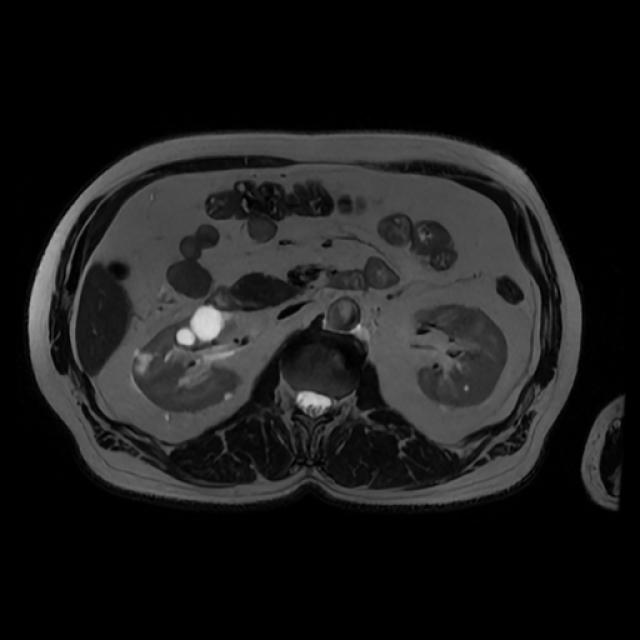sag: (130, 303, 241, 413)
sol: (413, 302, 508, 411)
